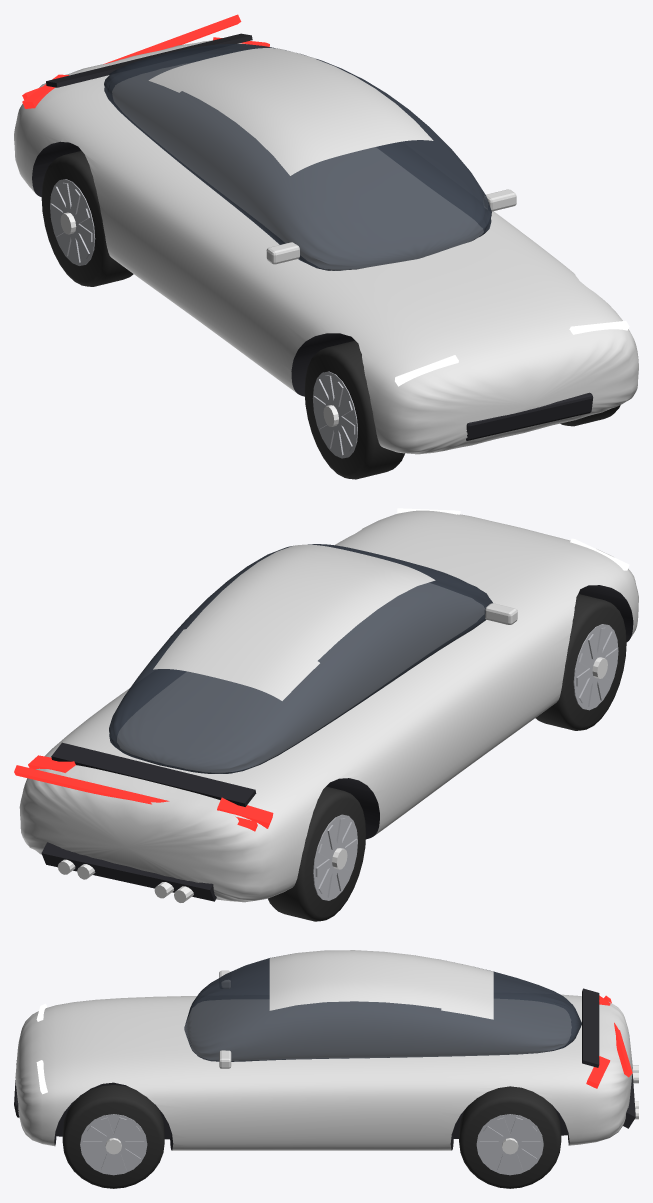
File: vortex.glb
3 renders of one model, top to bottom at view 1: azimuth 30°, elevation 25°; view 2: azimuth 150°, elevation 25°; view 3: azimuth 270°, elevation 25°, orthographic. The views are drawn at different scales.
Visible parts, largest first — view 1: Car, Wheel_FL, Wheel_RL, Rim, Rim.002; view 2: Car, Wheel_RL, Wheel_FL, Rim, Rim.002; view 3: Car, Wheel_FR, Wheel_RR, Rim.003, Rim.001, Spoke.005, Spoke.015.
Part boxes in pixels (left/top/right/bottom): Car: left=14, top=14, right=638, bottom=454; Wheel_FL: left=304, top=340, right=404, bottom=479; Wheel_RL: left=41, top=151, right=133, bottom=286; Rim: left=312, top=371, right=357, bottom=458; Rim.002: left=50, top=179, right=95, bottom=265; Car: left=14, top=508, right=638, bottom=902; Wheel_RL: left=268, top=786, right=366, bottom=921; Wheel_FL: left=535, top=594, right=626, bottom=730; Rim: left=573, top=624, right=618, bottom=710; Rim.002: left=313, top=814, right=357, bottom=900; Car: left=14, top=950, right=638, bottom=1150; Wheel_FR: left=62, top=1085, right=164, bottom=1188; Wheel_RR: left=459, top=1086, right=561, bottom=1188; Rim.003: left=476, top=1114, right=543, bottom=1175; Rim.001: left=80, top=1114, right=147, bottom=1175; Spoke.005: left=83, top=1141, right=144, bottom=1148; Spoke.015: left=479, top=1141, right=540, bottom=1148.
Size of the model in its own units: 1.96 by 1.59 by 5.15.
